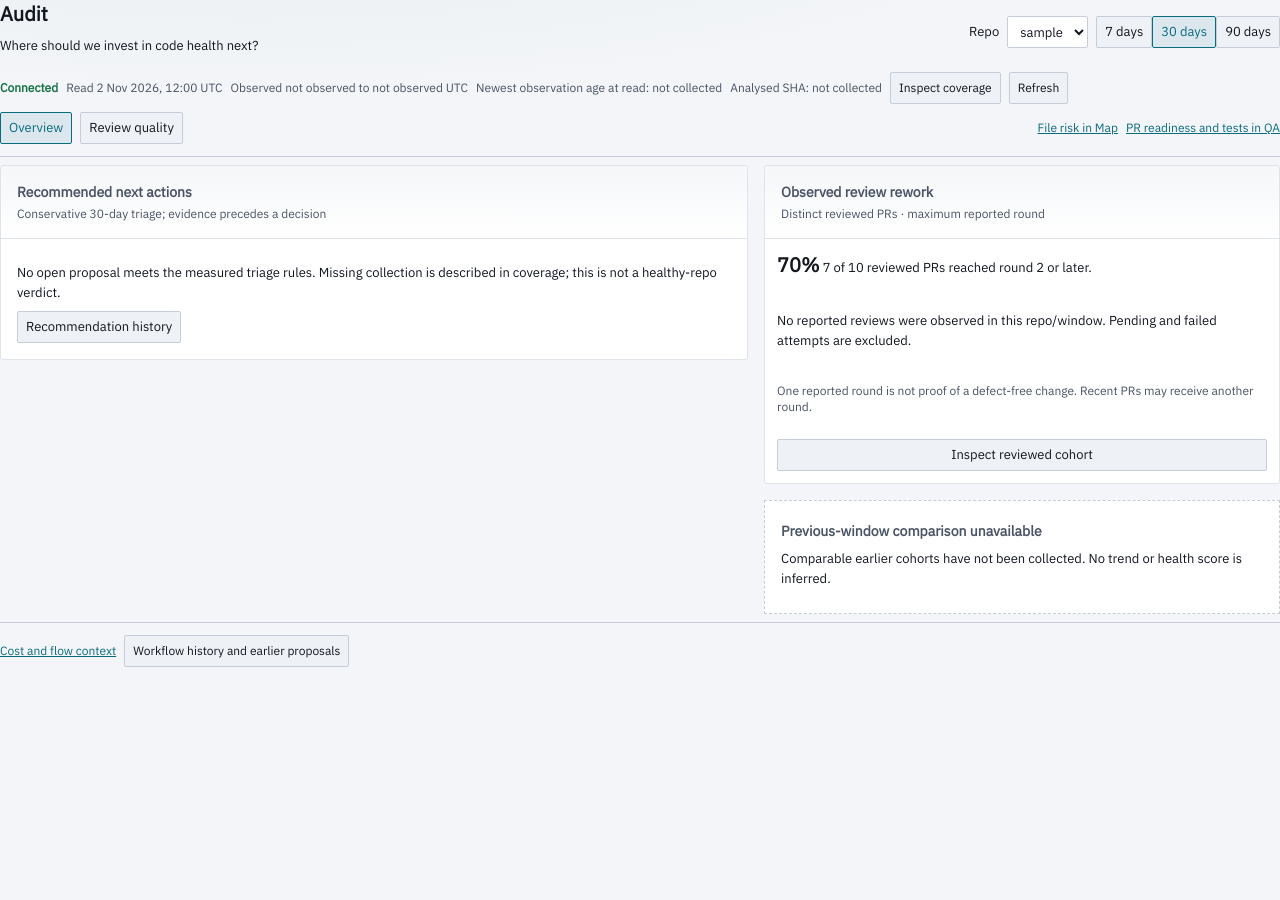
Test: names missing and empty collection without turning it into a health score
Expected: the text "No open proposal" is shown, [17, 264, 717, 301]
Expected: the text "No reported reviews" is shown, [777, 312, 1217, 349]
Click the button "Inspect coverage". click: coordinates (945, 88)
box: [890, 72, 1001, 104]
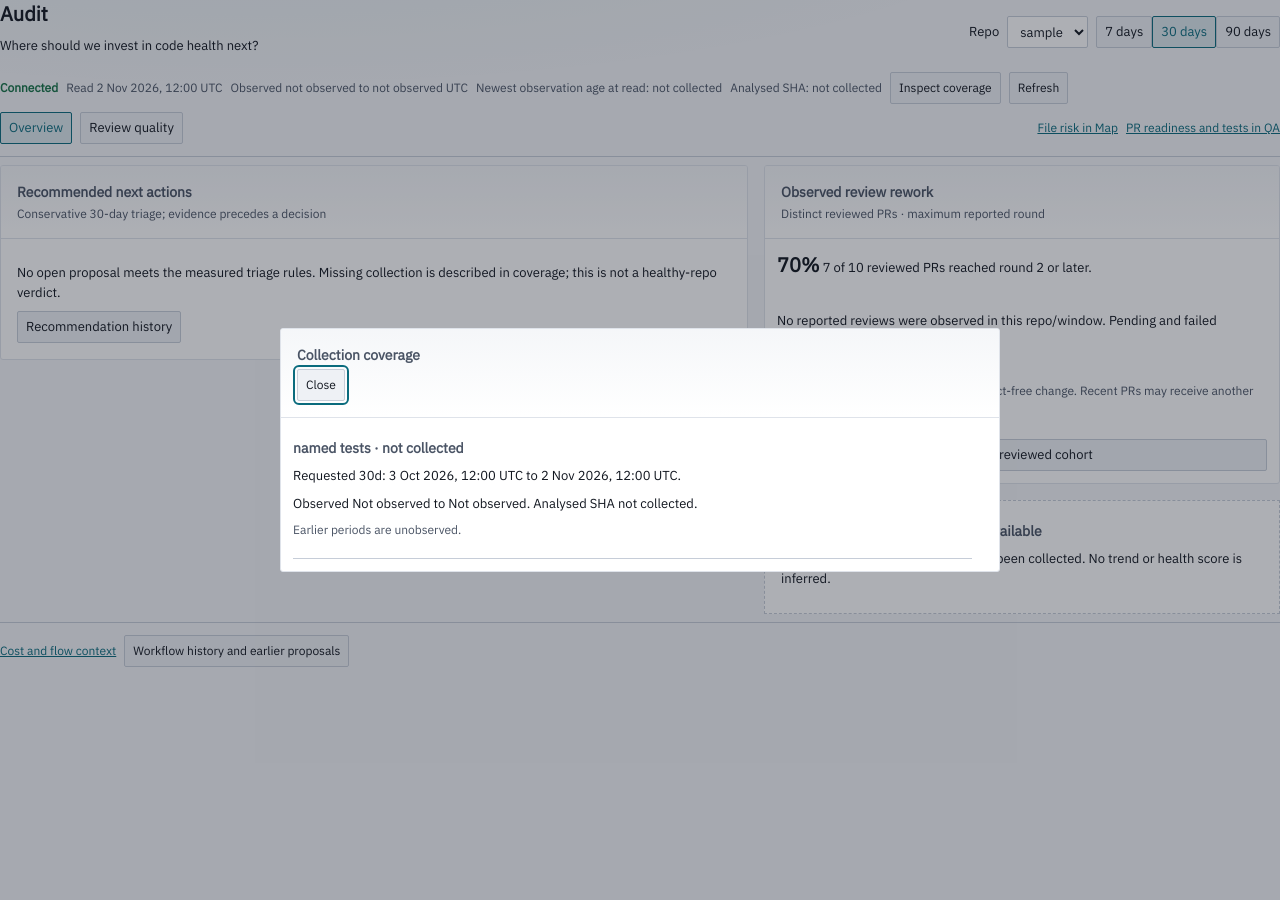
Result: the heading "named tests · not collected" is shown at [293, 439, 464, 457]
